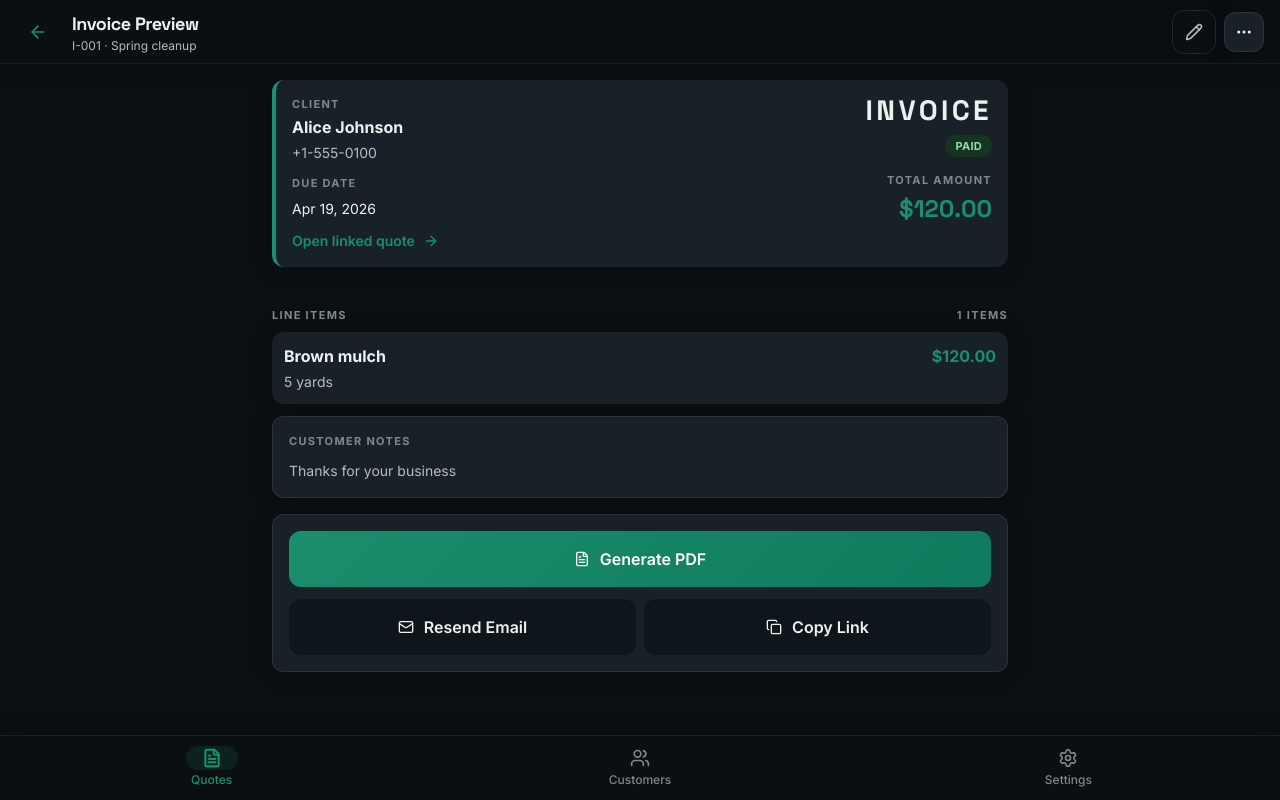
Scenario: InvoiceDetailScreen › keeps paid invoice overflow actions without showing a top paid banner
Check: the heading "Invoice Preview" is shown, box [72,12,199,35]
Click the button named "more actions" at x=1244, y=32, box [1224,12,1264,52]
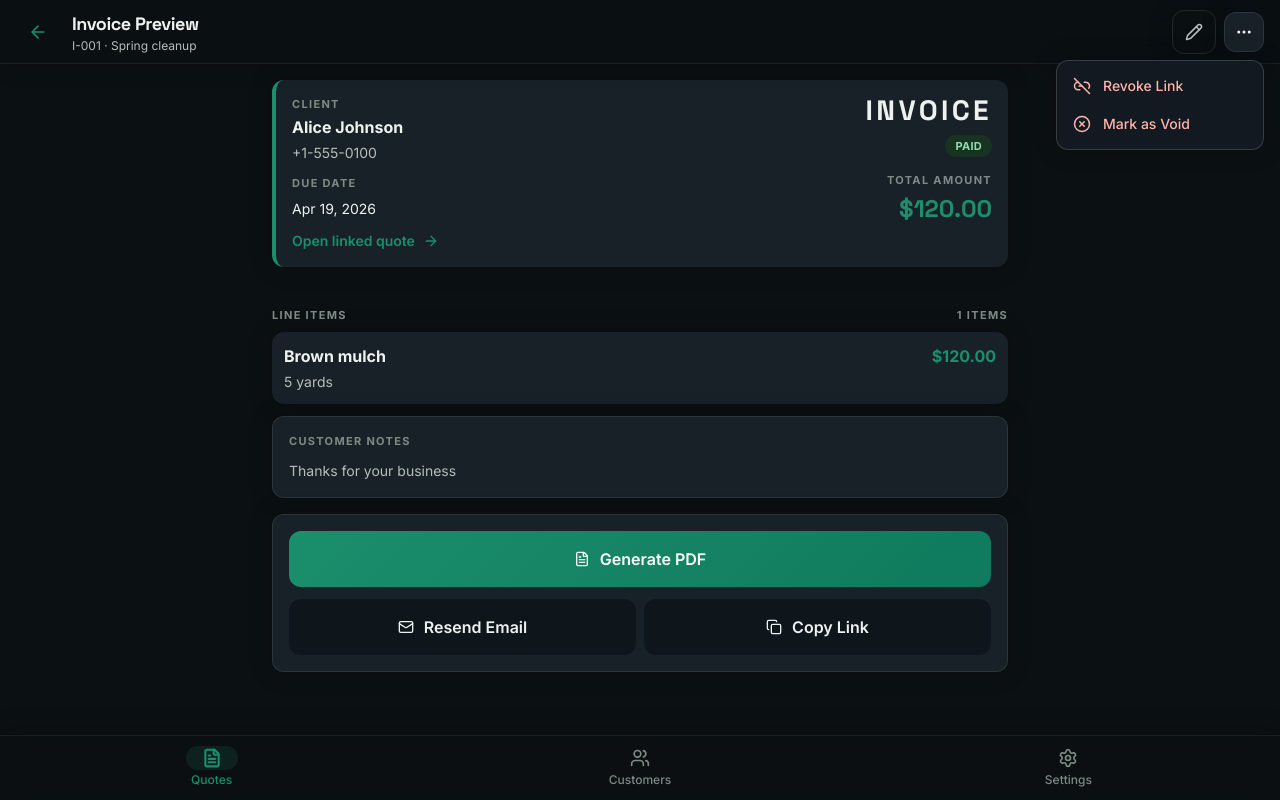
Check: the menu item "Mark as Void" is shown, box [1063,105,1257,143]
